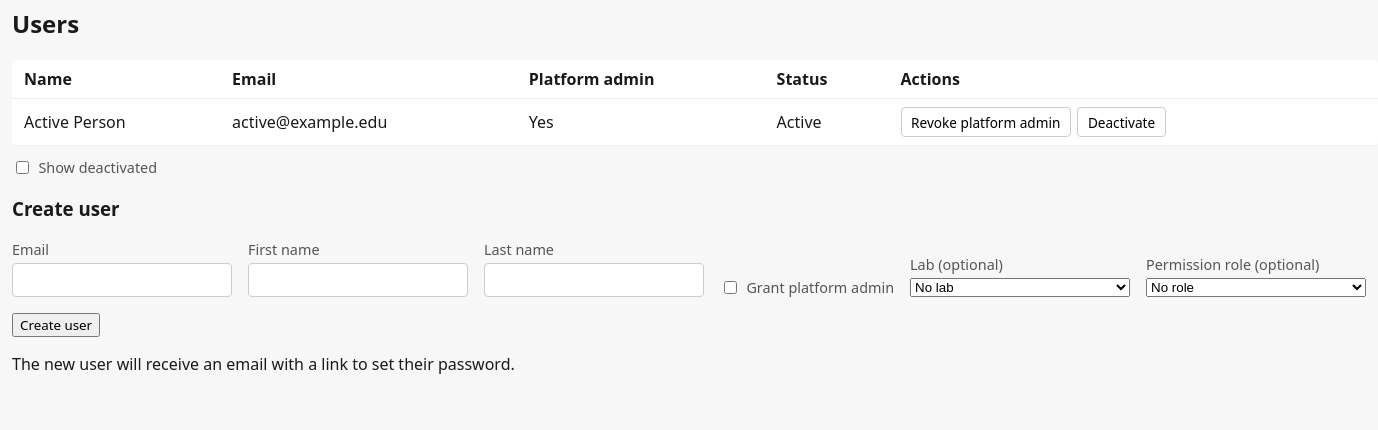
Scenario: AdminUsers roster › hides deactivated accounts by default, and reveals them via "Show deactivated"
This screenshot has width=1378, height=430.
expect the text "active@example.edu" is shown: met, box [220,98,517,146]
expect the text "gone@example.edu" is not shown: met
Click the checkbox labelled "Show deactivated" at (22, 168), box [16,161,29,174]
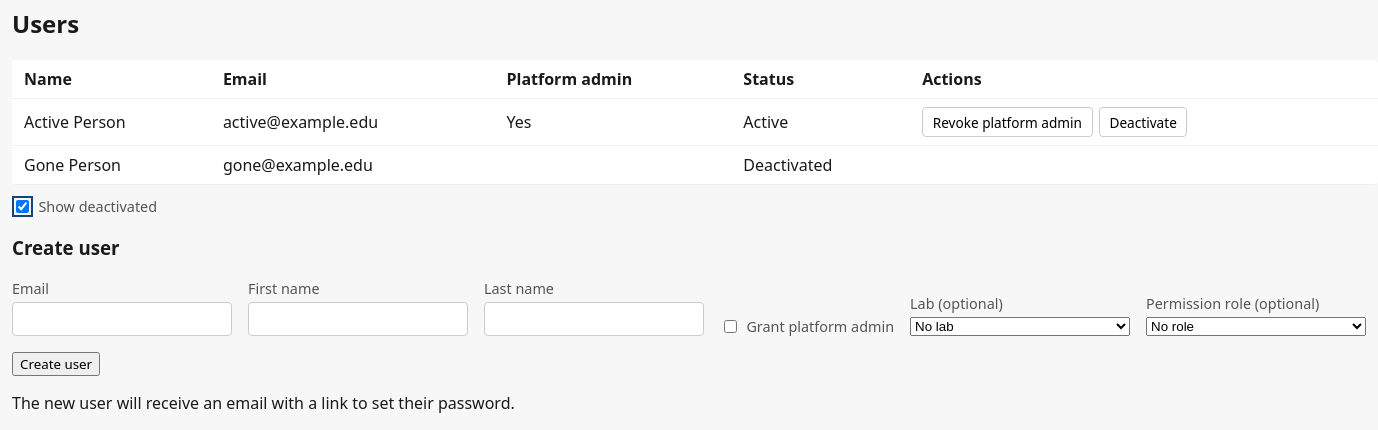
expect the text "Deactivated" is shown: met, box [731,146,910,185]
